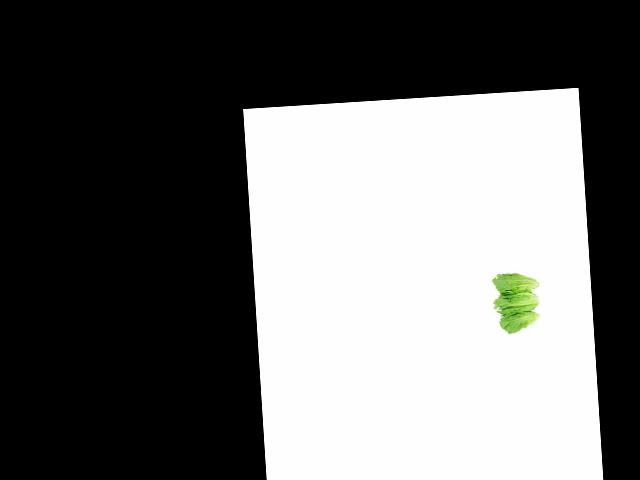lettuce: (497, 306, 551, 335)
